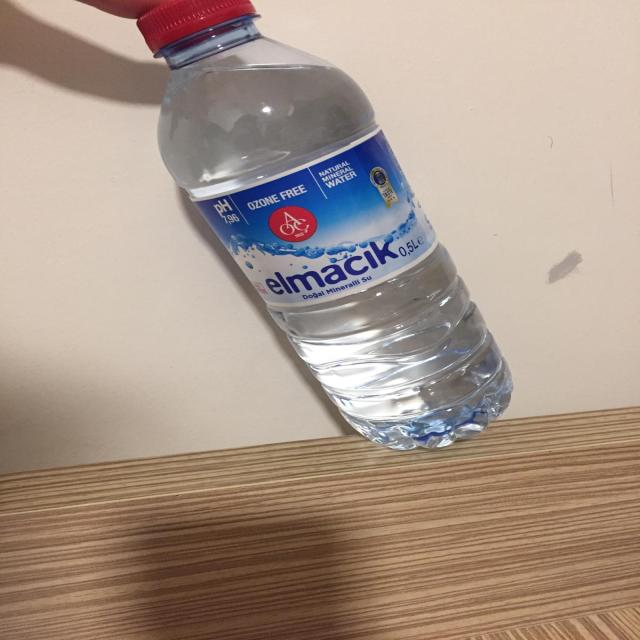anorganik: (118, 0, 555, 452)
